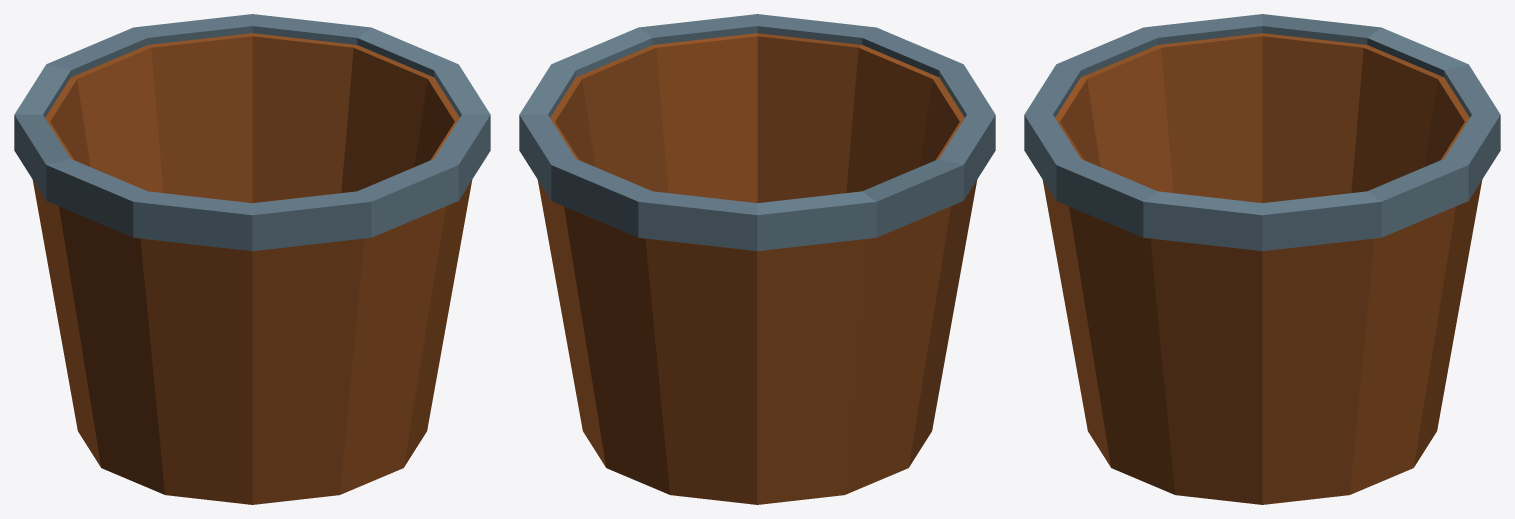
File: D25_Bucket_Body.fbx
The picture shows the model from 3 angles, left to right: view 1: azimuth 30°, elevation 25°; view 2: azimuth 150°, elevation 25°; view 3: azimuth 270°, elevation 25°; orthographic projection.
Parts seen in each view (by area): view 1: D25_Bucket_Body; view 2: D25_Bucket_Body; view 3: D25_Bucket_Body.
Part boxes in pixels (left/top/right/bottom): D25_Bucket_Body: left=14, top=14, right=490, bottom=504; D25_Bucket_Body: left=519, top=14, right=995, bottom=504; D25_Bucket_Body: left=1024, top=14, right=1500, bottom=504.
Bounding box in the file's own units: 0.6 × 0.44 × 0.6.
Materials: 2 (2 with a texture image).
